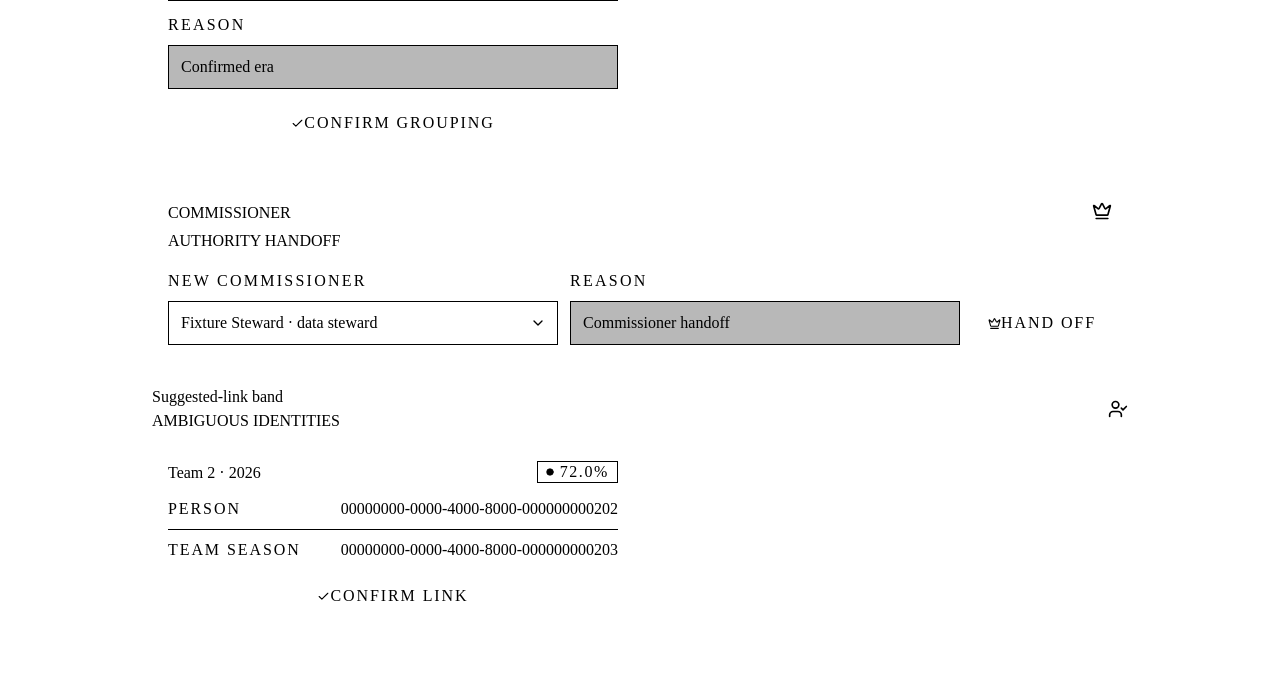
Test: dismissing the handoff dialog does not hand off the commissioner seat
This screenshot has width=1280, height=678.
(page scrolled)
Click the button "Hand off" at (1042, 323), box [972, 301, 1112, 345]
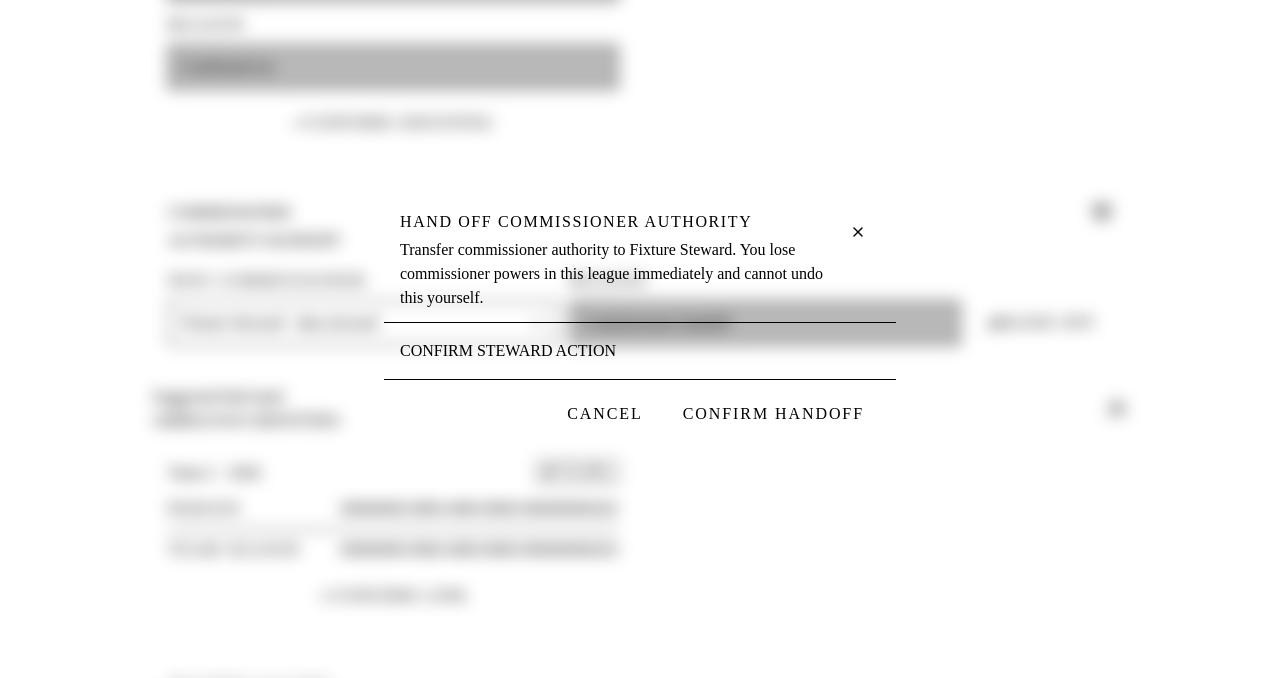
Expected: the text "Transfer commissioner authority to" is shown, [400, 241, 823, 306]
Click the button "Cancel" at (605, 414), box [551, 392, 659, 436]
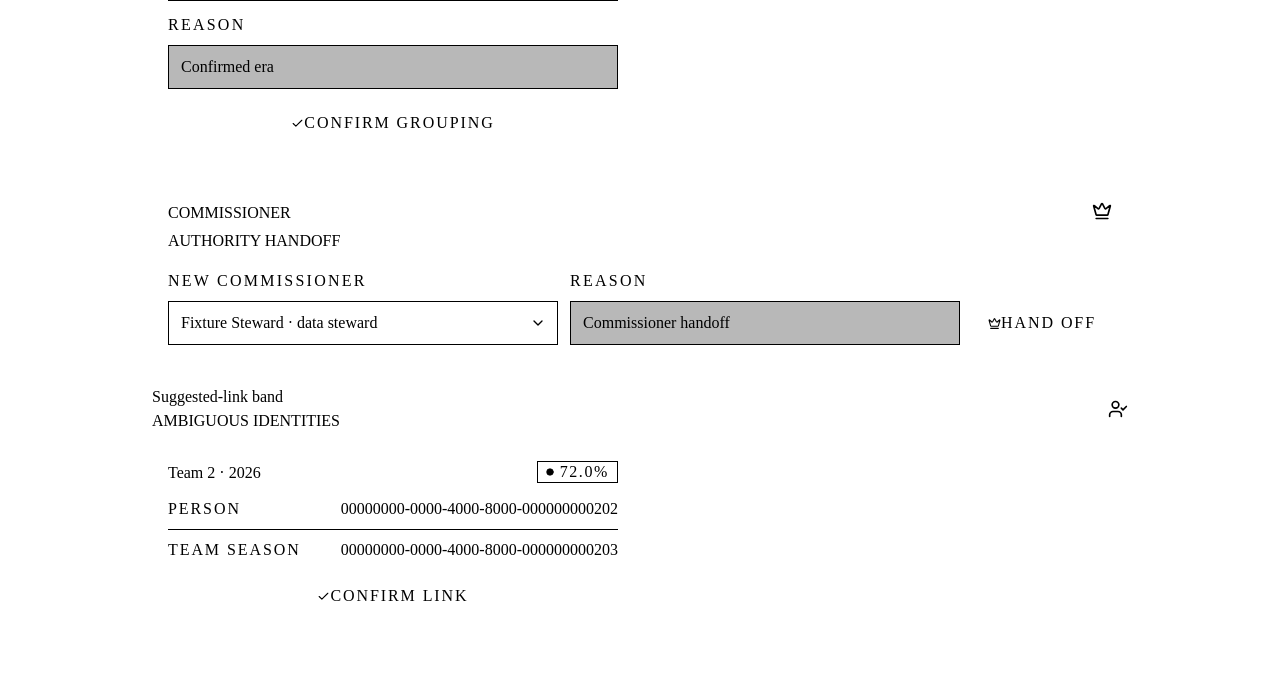
Expected: the button "Hand off" is shown, [972, 301, 1112, 345]
Expected: the dialog is gone
